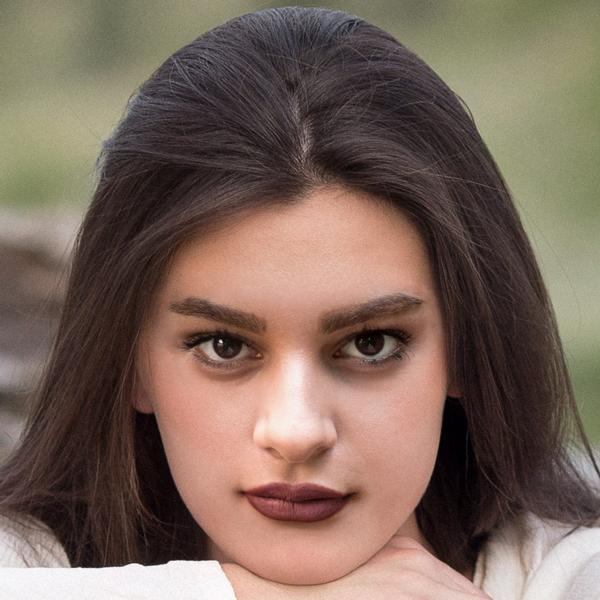Eyes: (171, 318, 271, 381), (319, 321, 422, 374)
